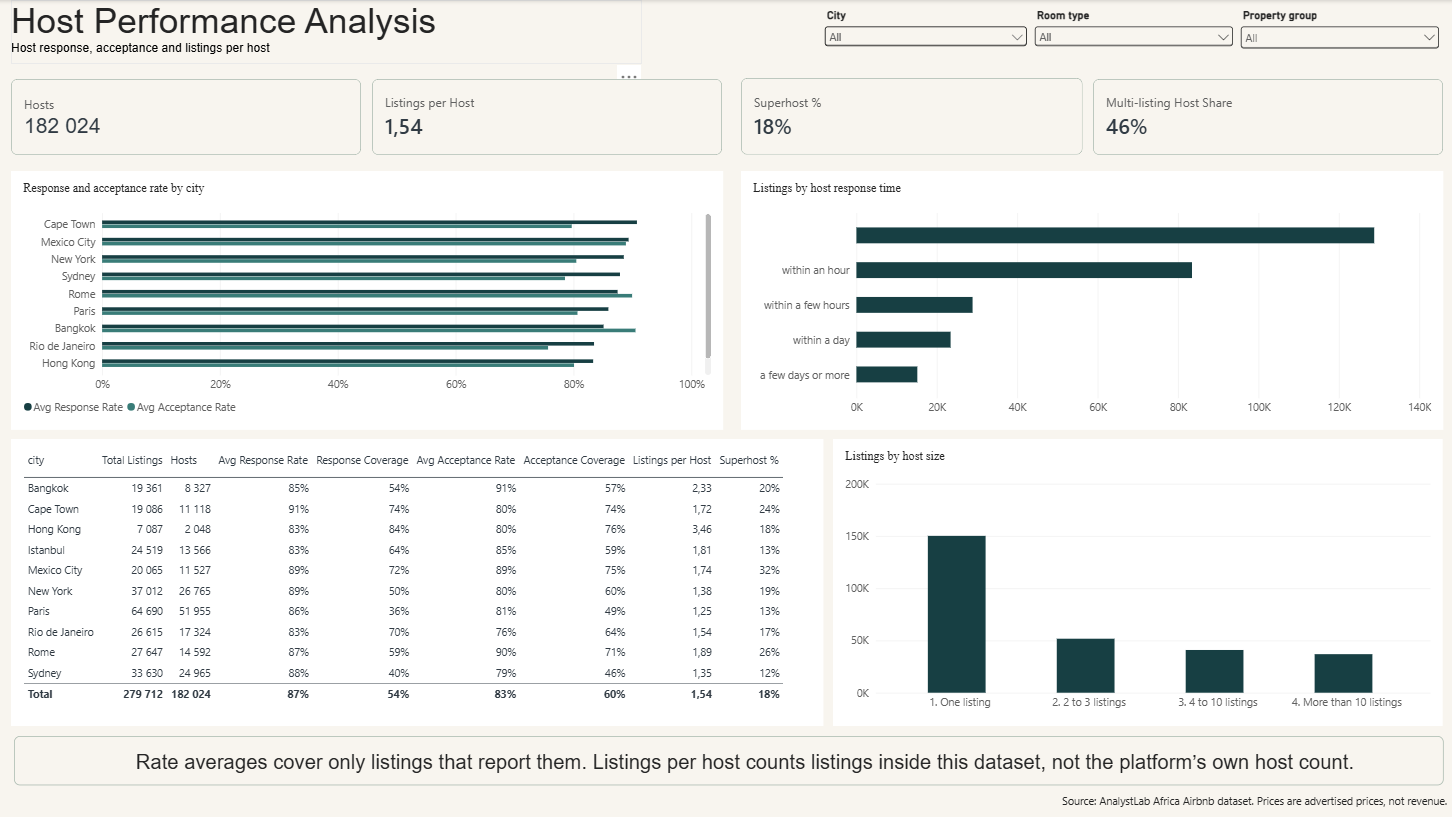

The page's visual inventory and layout, read from the dashboard file:
{"tool":"powerbi","page":{"name":"Host Performance Analysis","canvas":[1920,1080],"ordinal":2},"visuals":[{"type":"textbox","box":[1398.4,1046,515.9,33.3],"z":0},{"type":"textbox","title":"Host Performance Analysis","box":[14.3,0,831.7,84.1],"z":1000},{"type":"slicer","fields":{"Values":["dim_city.city"]},"box":[1004.8,12.7,276.2,69.8],"z":2000},{"type":"cardVisual","fields":{"Data":["listings_clean.Hosts"]},"box":[14.3,84.1,461.9,100],"z":3000},{"type":"cardVisual","fields":{"Data":["listings_clean.Listings per Host"]},"box":[490.5,82.5,461.9,100],"z":4000},{"type":"cardVisual","fields":{"Data":["listings_clean.Superhost %"]},"box":[974.6,82.5,450.8,101.6],"z":5000},{"type":"cardVisual","fields":{"Data":["listings_clean.Multi-listing Host Share"]},"box":[1438.1,82.5,461.9,100],"z":6000},{"type":"clusteredBarChart","title":"Response and acceptance rate by city","fields":{"Category":["dim_city.city"],"Y":["listings_clean.Avg Response Rate","listings_clean.Avg Acceptance Rate"]},"box":[14.3,209.5,938.1,341.3],"z":7000},{"type":"barChart","title":"Listings by host response time","fields":{"Category":["listings_clean.host_response_time"],"Y":["listings_clean.Total Listings"]},"box":[974.6,209.5,925.4,341.3],"z":8000},{"type":"columnChart","title":"Listings by host size","fields":{"Category":["listings_clean.Host Size Band"],"Y":["listings_clean.Total Listings"]},"box":[1096.8,563.5,803.2,377.8],"z":9000},{"type":"tableEx","fields":{"Values":["dim_city.city","listings_clean.Total Listings","listings_clean.Hosts","listings_clean.Avg Response Rate","listings_clean.Response Coverage","listings_clean.Avg Acceptance Rate","listings_clean.Acceptance Coverage","listings_clean.Listings per Host","listings_clean.Superhost %"]},"box":[14.3,563.5,1069.8,377.8],"z":10000},{"type":"textbox","box":[17.5,955.6,1885.7,79.4],"z":11000},{"type":"slicer","fields":{"Values":["dim_room_type.room_type"]},"box":[1301.6,12.7,271.4,60.3],"z":12000},{"type":"slicer","fields":{"Values":["dim_property_type.property_type_group"]},"box":[1593.7,12.7,271.4,60.3],"z":13000}]}

Visuals, with their boxes in screenshot pixels (x1, y1, x2, y2), scaled from the page's 1920x1080 canvas onto the 1452x817 screenshot:
textbox: 1058:791:1448:816
"Host Performance Analysis" textbox: 11:0:640:64
slicer - dim_city.city: 760:10:969:62
cardVisual - listings_clean.Hosts: 11:64:360:139
cardVisual - listings_clean.Listings per Host: 371:62:720:138
cardVisual - listings_clean.Superhost %: 737:62:1078:139
cardVisual - listings_clean.Multi-listing Host Share: 1088:62:1437:138
"Response and acceptance rate by city" clusteredBarChart: 11:158:720:417
"Listings by host response time" barChart: 737:158:1437:417
"Listings by host size" columnChart: 829:426:1437:712
tableEx - dim_city.city x listings_clean.Total Listings: 11:426:820:712
textbox: 13:723:1439:783
slicer - dim_room_type.room_type: 984:10:1190:55
slicer - dim_property_type.property_type_group: 1205:10:1410:55
